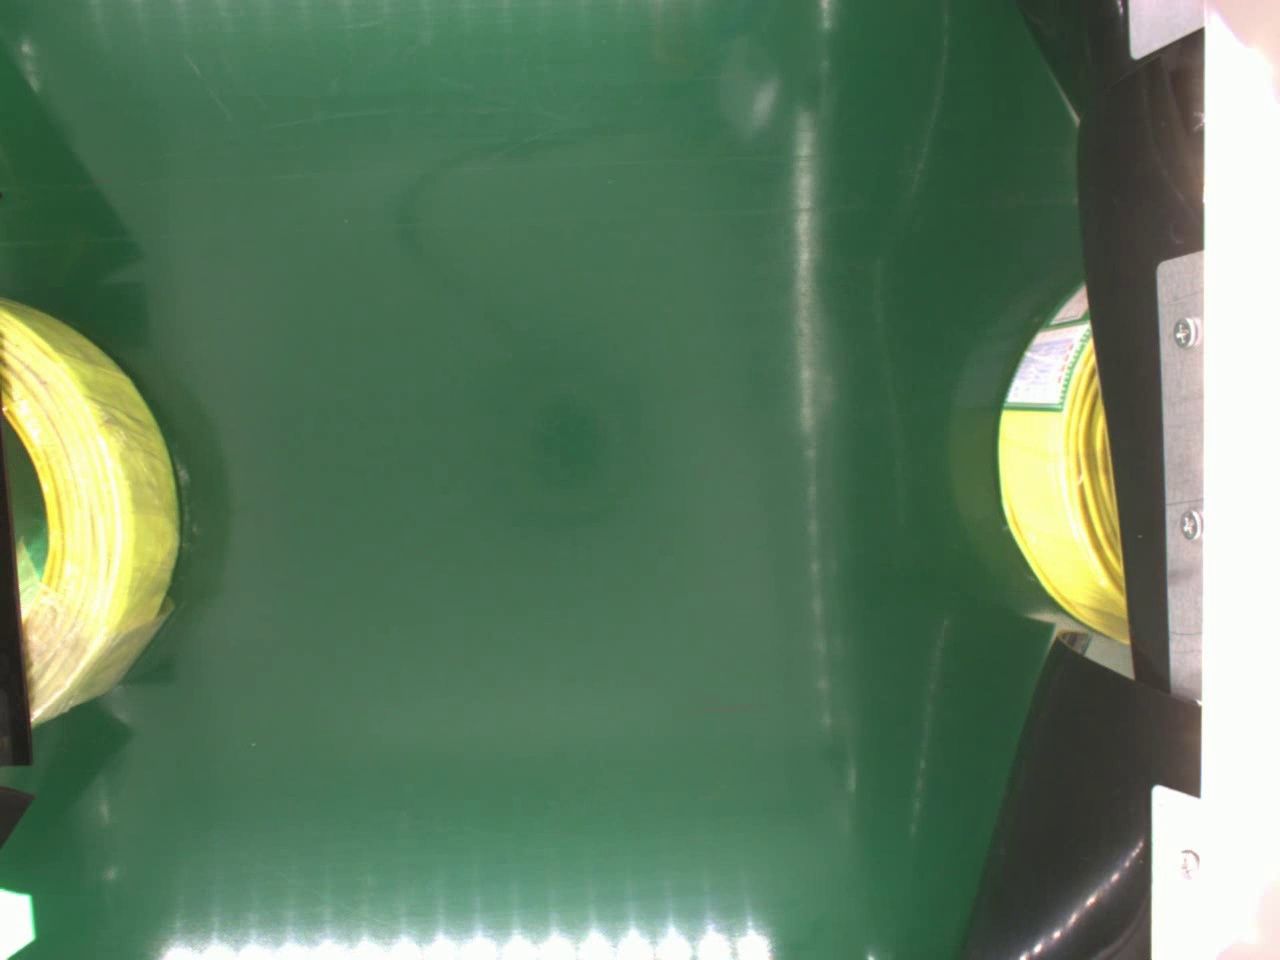yellow: (0, 295, 181, 722), (999, 276, 1136, 639)
